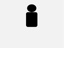human: (23, 1, 40, 28)
